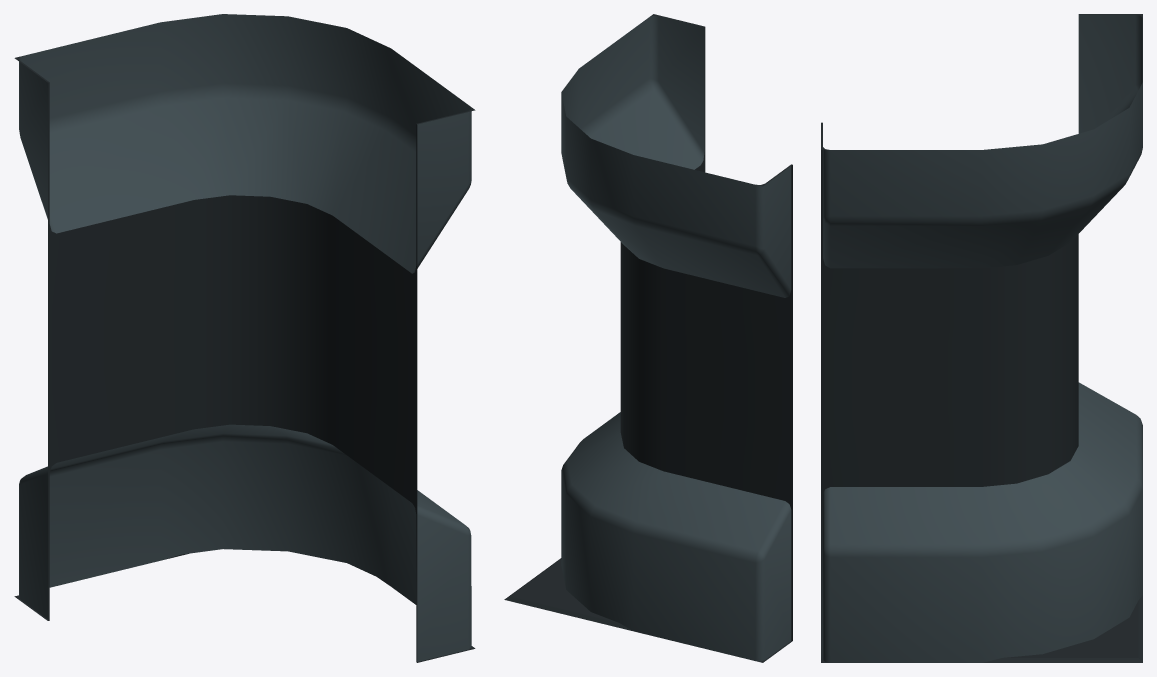
Rendered from wallOuter90.fbx.
The picture shows the model from 3 angles, left to right: view 1: azimuth 30°, elevation 25°; view 2: azimuth 150°, elevation 25°; view 3: azimuth 270°, elevation 25°; orthographic projection. The views are drawn at different scales.
Visible parts, largest first — view 1: wallOuter90; view 2: wallOuter90; view 3: wallOuter90.
Boxes of the visible parts, x1,y1,x2,y2 form: wallOuter90: [14, 14, 475, 662]; wallOuter90: [504, 14, 792, 662]; wallOuter90: [821, 14, 1142, 662].
Bounding box in the file's own units: 2 × 2 × 3.52.
